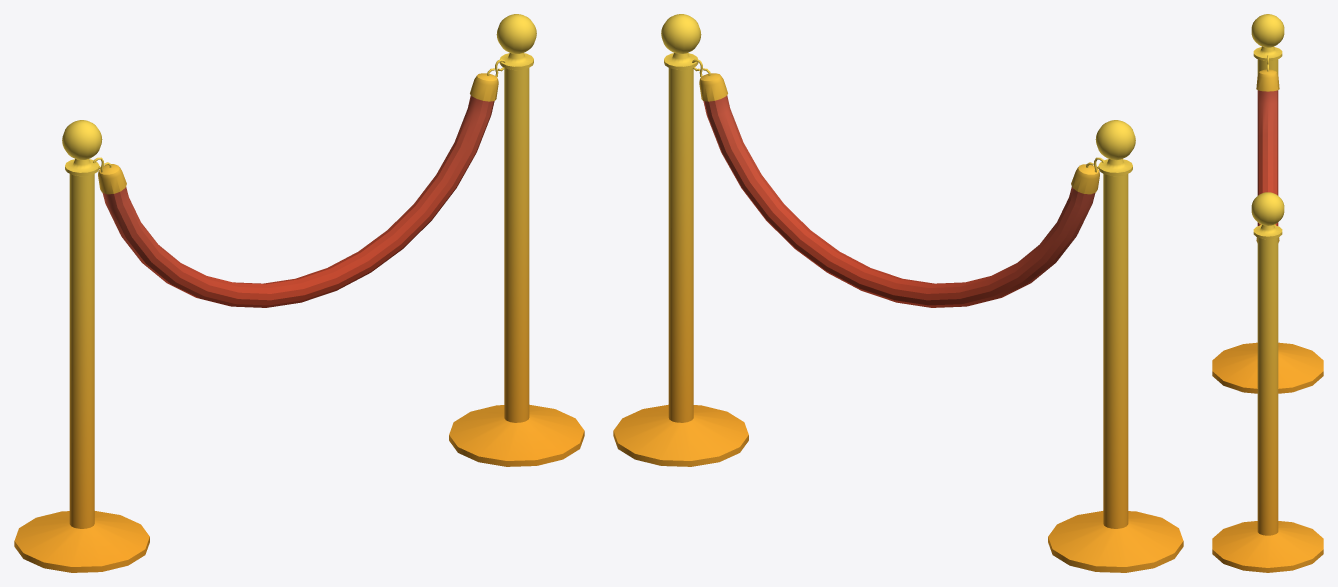
File: Fence_01.fbx
The picture shows the model from 3 angles, left to right: view 1: azimuth 30°, elevation 25°; view 2: azimuth 150°, elevation 25°; view 3: azimuth 270°, elevation 25°; orthographic projection. The views are drawn at different scales.
Visible parts, largest first — view 1: sweep2, sweep3, pCylinder1; view 2: sweep2, sweep3, pCylinder1; view 3: sweep2, sweep3, pCylinder1.
Part boxes in pixels (x1,y1,x2,y2): sweep2: (449,14,584,466); sweep3: (14,120,149,572); pCylinder1: (98,73,498,307); sweep2: (613,14,748,466); sweep3: (1048,120,1183,572); pCylinder1: (699,73,1099,307); sweep2: (1212,192,1323,572); sweep3: (1212,14,1323,393); pCylinder1: (1256,69,1279,242).
Size of the model in its own units: 180 by 131 by 37.28.
Materials: 1 (1 with a texture image).
